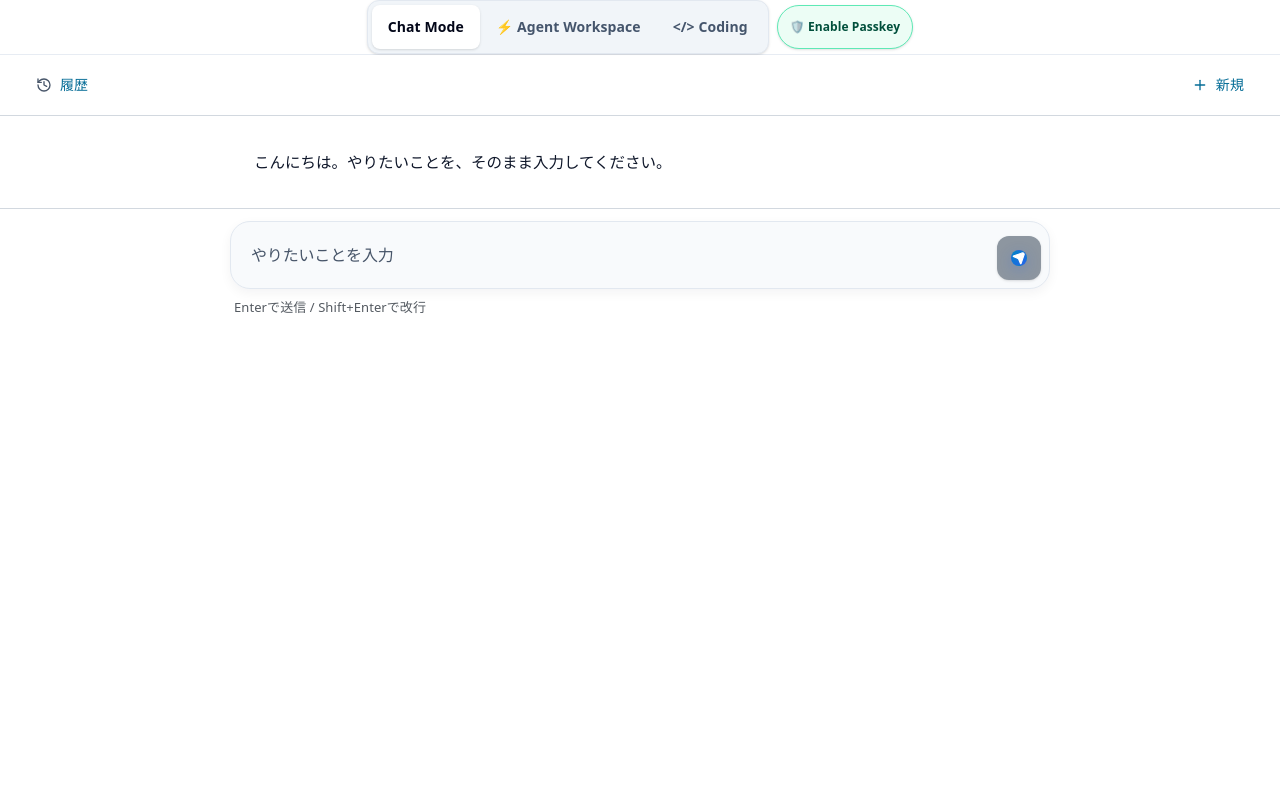
Test: UnifiedChat › fails closed without parsing or displaying an HTML API response
In the text box with placeholder "やりたいことを入力": (614, 255) [239,230,989,280], type "短く整理してください"
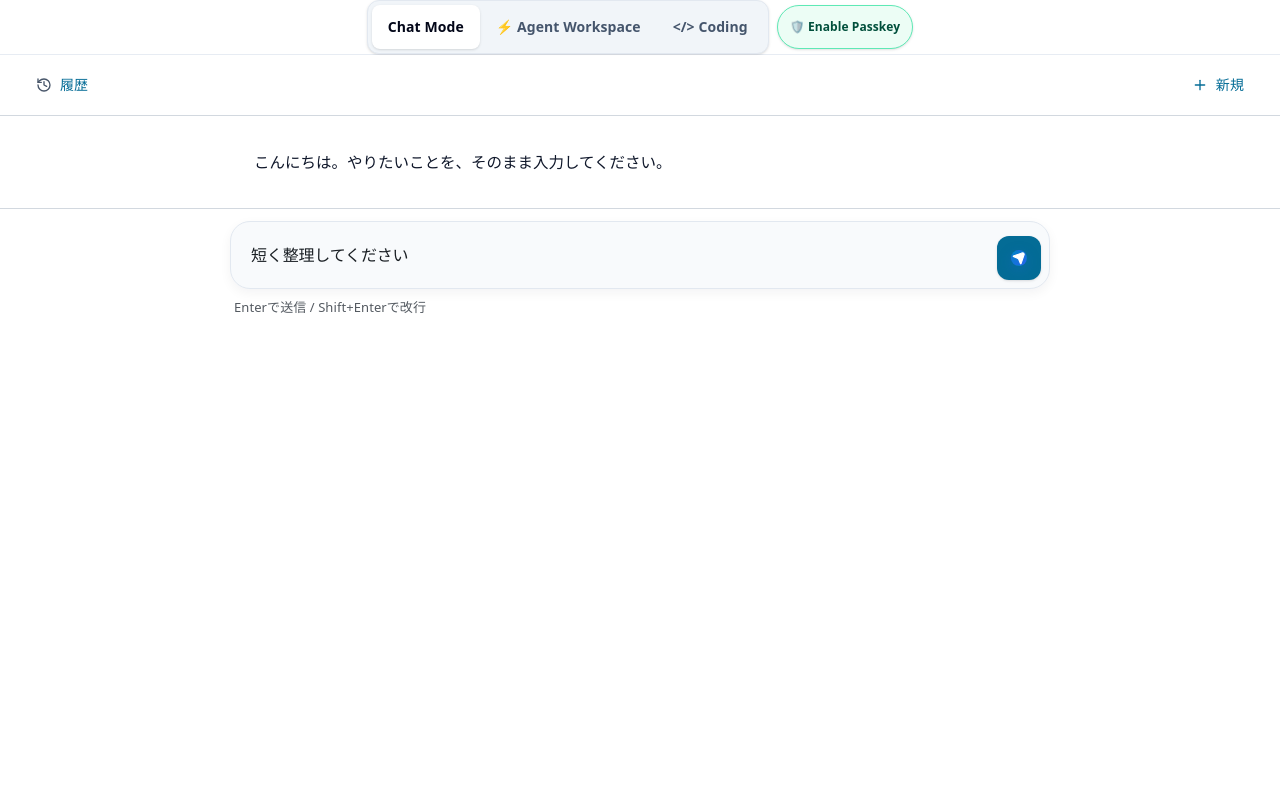
Click the button named "依頼を送信": (1019, 258) [997,236,1041,280]
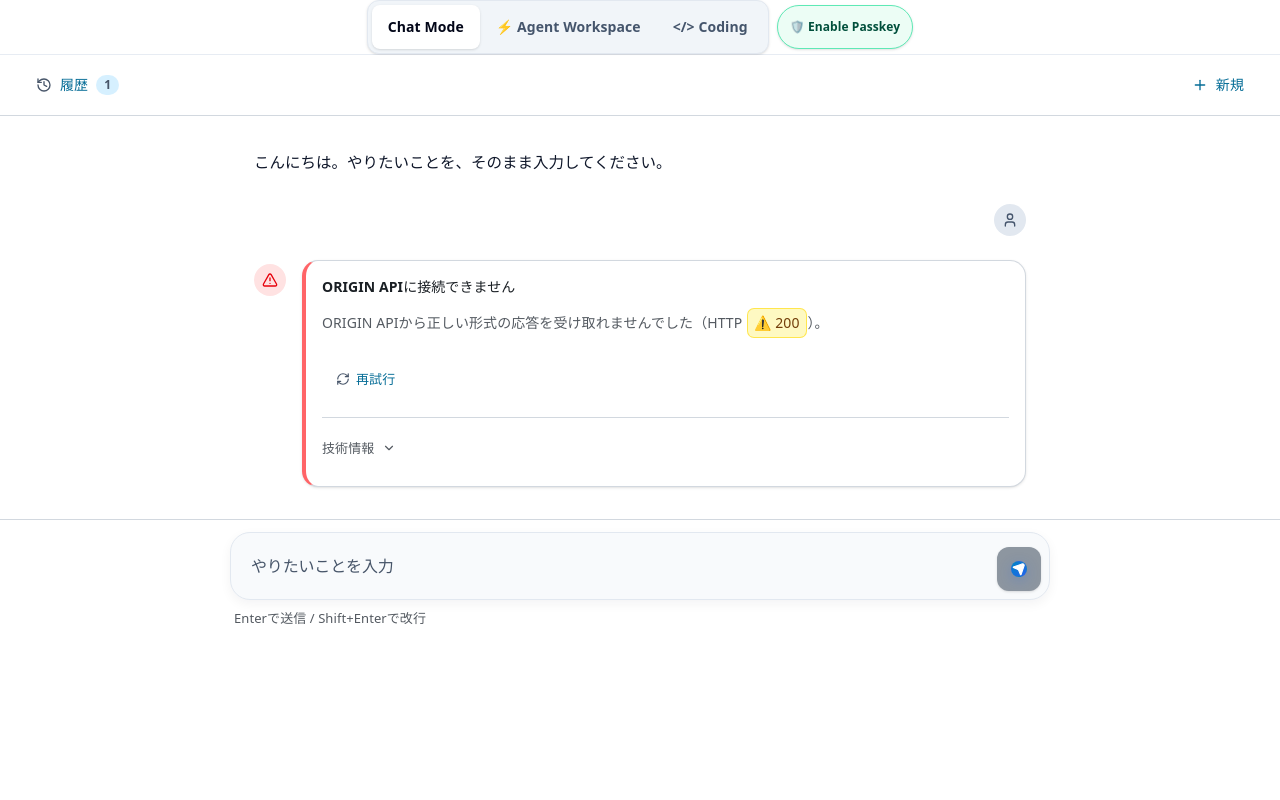
Expected: the heading "ORIGIN APIに接続できません" is shown, [322,277,515,296]
Expected: the text "ORIGIN APIから正しい形式の応答を受け取れませんでした（HTTP 200）。" is shown, [322,309,829,337]
Click the heading "技術情報": (359, 448) [322,439,396,457]
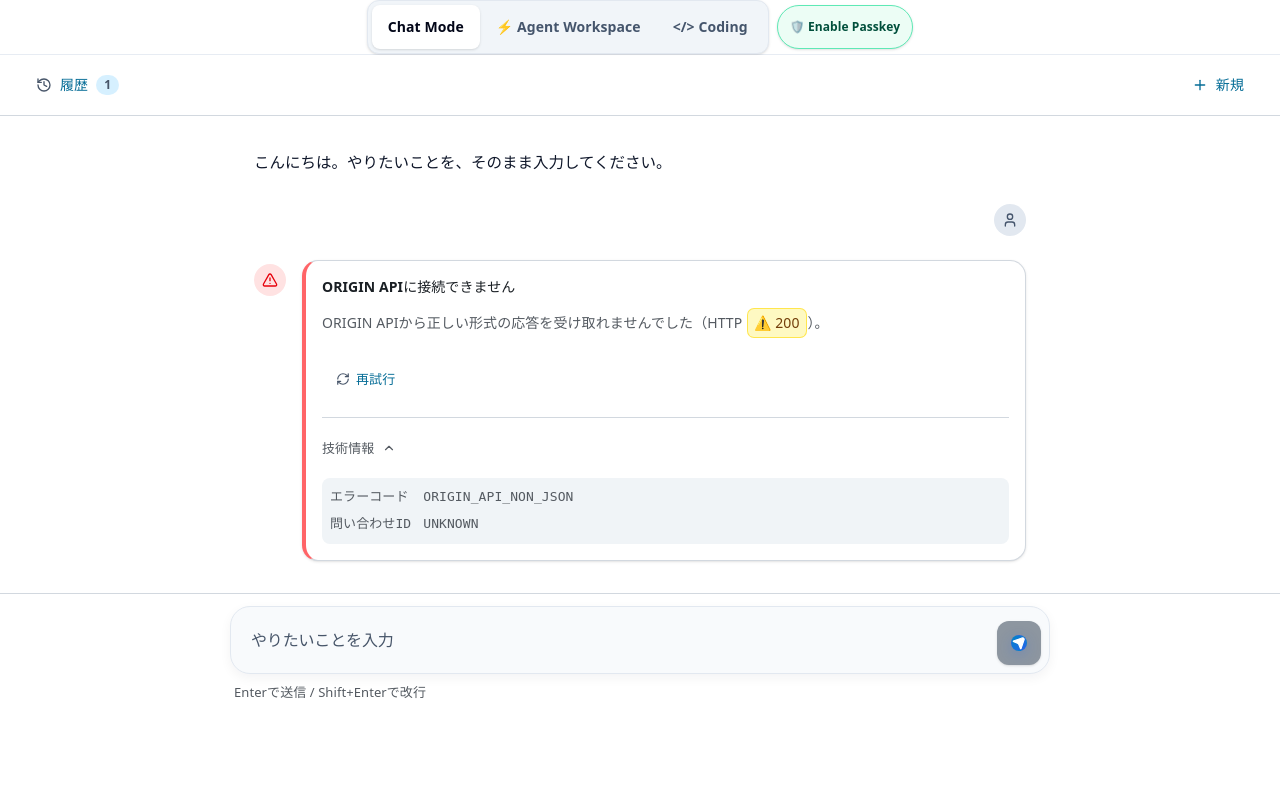
Expected: the text "ORIGIN_API_NON_JSON" is shown, [423,489,573,504]
